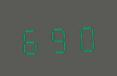nine: (45, 20, 70, 55)
six: (18, 22, 43, 56)
zero: (71, 19, 96, 54)
